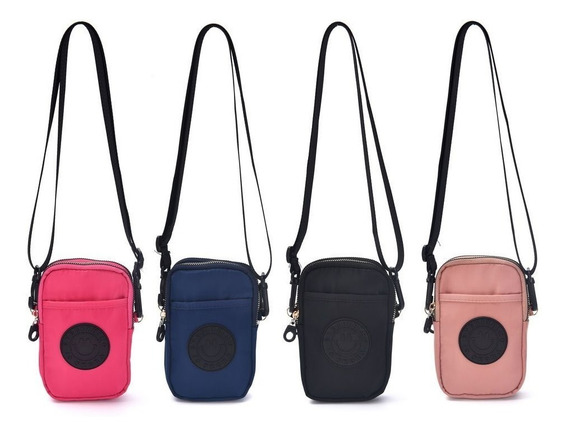cartera: (286, 20, 405, 405), (421, 19, 538, 400), (28, 22, 145, 400), (158, 23, 273, 404)
